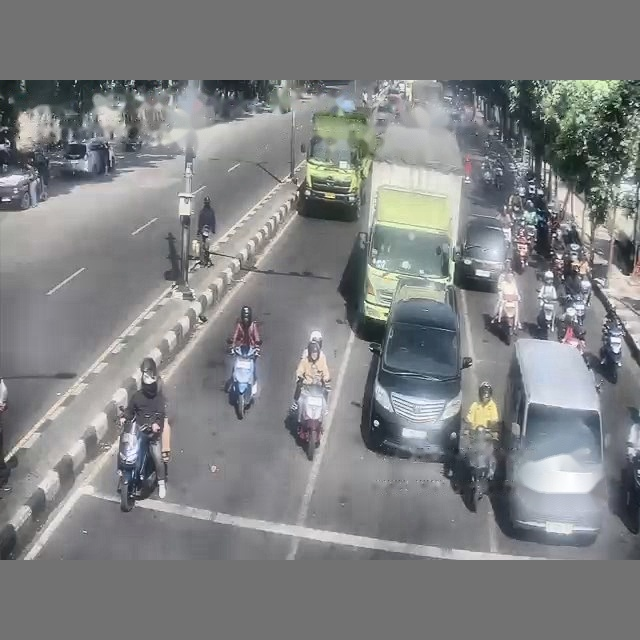Mobil: (365, 283, 471, 457), (457, 216, 508, 284), (61, 138, 108, 175), (0, 165, 38, 209), (619, 178, 639, 212)
Motor: (117, 416, 159, 511), (464, 427, 495, 509), (228, 345, 259, 419), (297, 384, 325, 460), (621, 450, 639, 533), (600, 323, 622, 383), (500, 295, 517, 345), (538, 298, 555, 338), (514, 234, 529, 271), (580, 274, 591, 306)
Truk: (358, 147, 462, 327), (299, 108, 376, 220)
